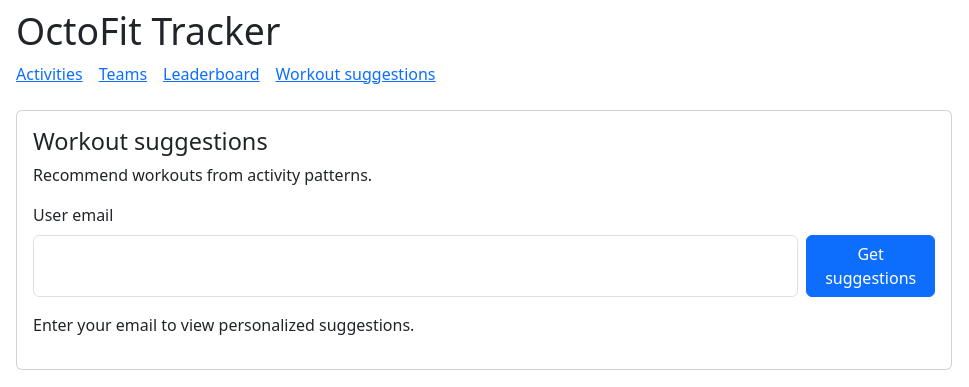
Test: OctoFit presentation contract › /workouts › shows a meaningful empty state
This screenshot has width=969, height=387.
Type "mona@example.com" into the field labelled "User email" at (416,266), box [33, 235, 798, 297]
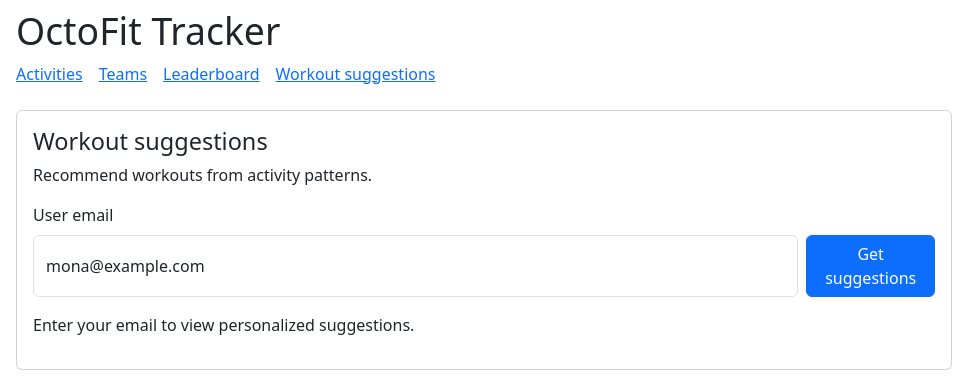
Click the button "Get suggestions" at (871,266), box [806, 235, 935, 297]
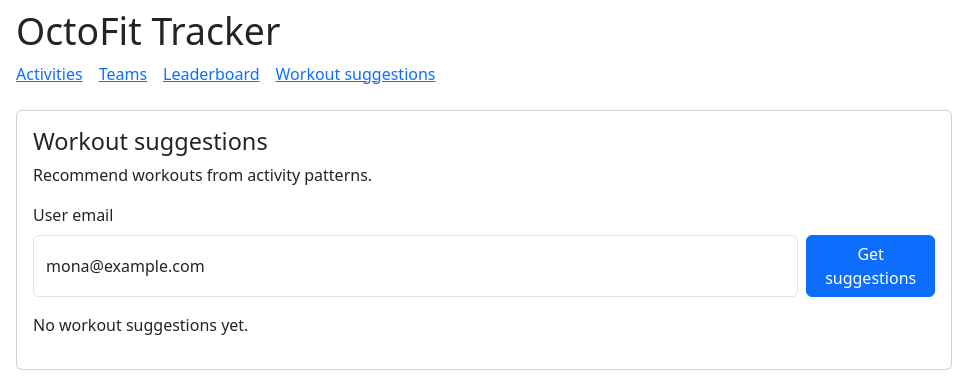
Expected: the text "No workout suggestions yet." is shown, [33, 314, 248, 336]
